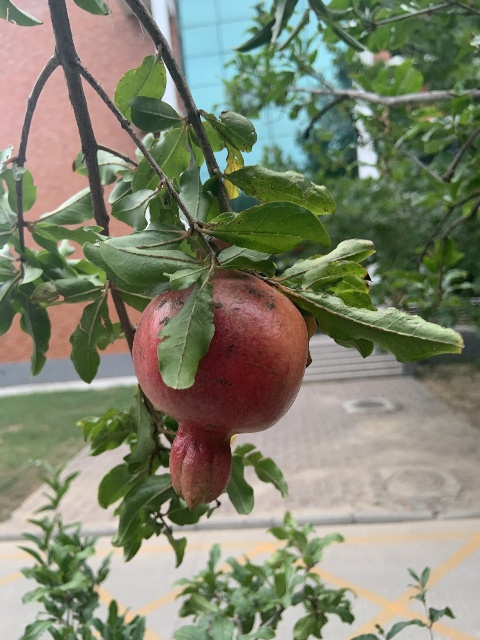ripe: (132, 269, 309, 510)
